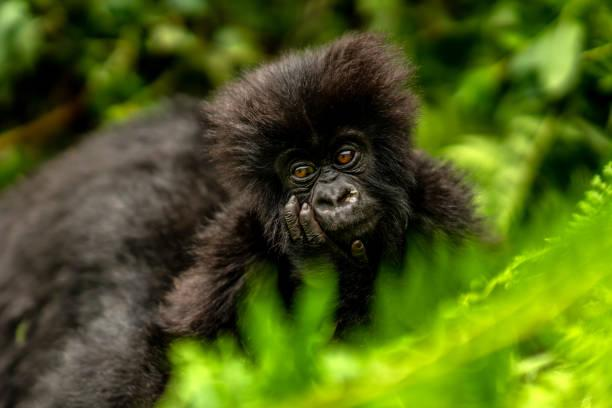goriile_montagne: (191, 22, 490, 324)
